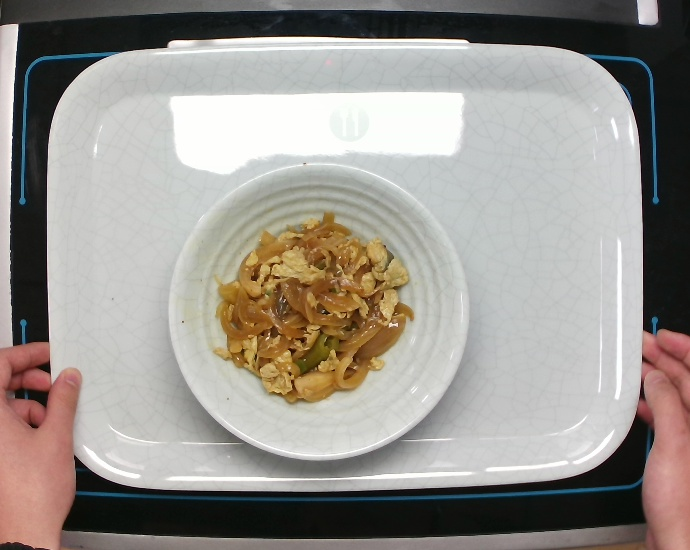JYsf-Xiao_Tang_Wan: (159, 153, 476, 469)
